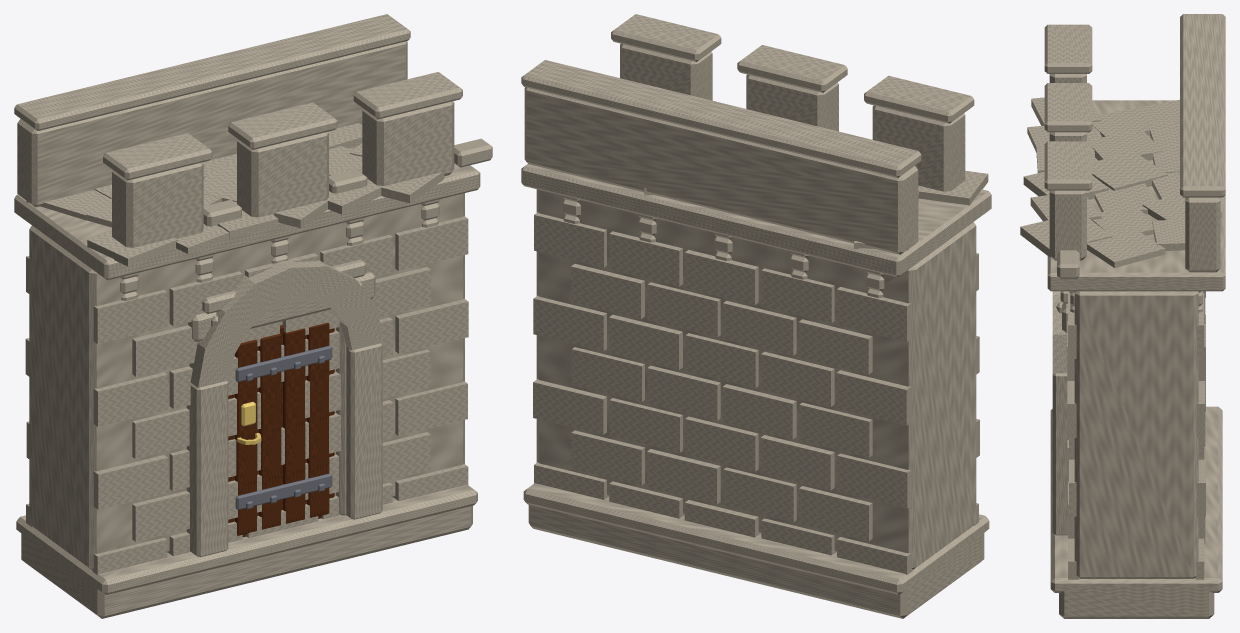
The model's file is fantasy-mmo-city-and-townsfolk-wall-postern-bay-79414eed__32719.glb.
3 renders of one model, left to right at view 1: azimuth 30°, elevation 25°; view 2: azimuth 150°, elevation 25°; view 3: azimuth 270°, elevation 25°, orthographic. The views are drawn at different scales.
Parts seen in each view (by area): view 1: wall-postern-bay, door/timber, door/iron; view 2: wall-postern-bay; view 3: wall-postern-bay.
Boxes of the visible parts, x1,y1,x2,y2 form: wall-postern-bay: [14, 14, 492, 618]; door/timber: [228, 322, 334, 537]; door/iron: [235, 345, 332, 509]; wall-postern-bay: [521, 14, 991, 618]; wall-postern-bay: [1020, 14, 1225, 618].
Size of the model in its own units: 4.19 by 4.62 by 1.98.
Materials: 4 (2 with a texture image).
